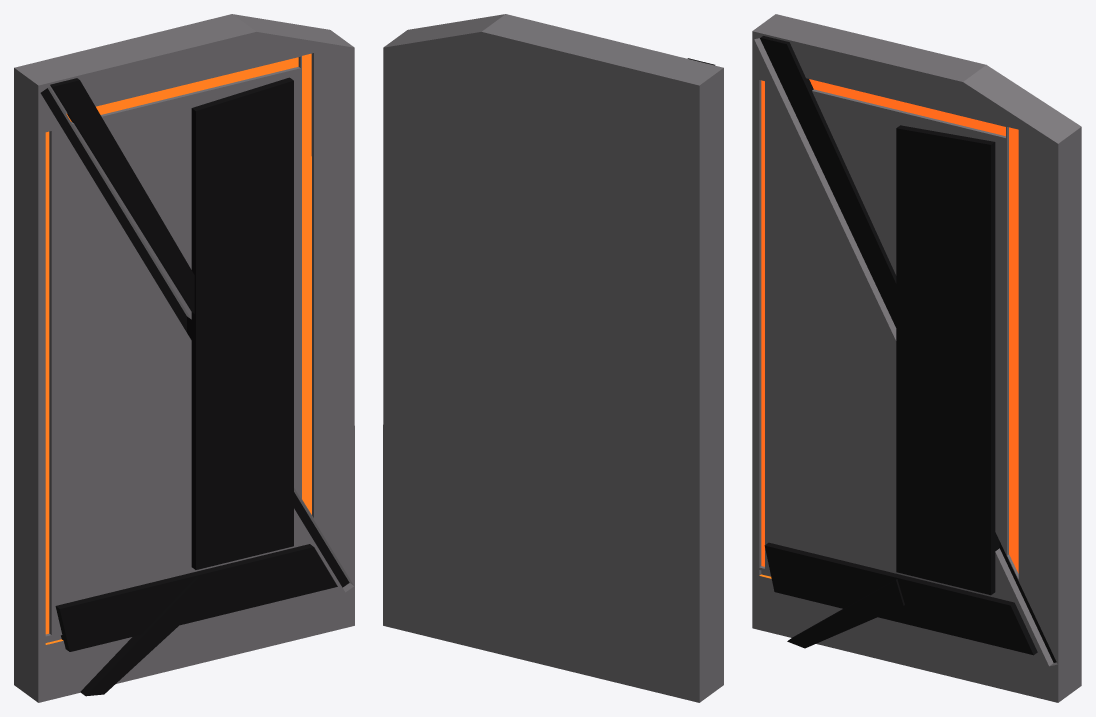
The model's file is Door_R.fbx.
3 renders of one model, left to right at view 1: azimuth 30°, elevation 25°; view 2: azimuth 150°, elevation 25°; view 3: azimuth 330°, elevation 25°, orthographic. The views are drawn at different scales.
Visible parts, largest first — view 1: Door_R; view 2: Door_R; view 3: Door_R.
Part boxes in pixels (x1,y1,x2,y2): Door_R: [14, 14, 354, 702]; Door_R: [383, 14, 723, 702]; Door_R: [752, 14, 1081, 702].
Size of the model in its own units: 120 by 225 by 19.7.
